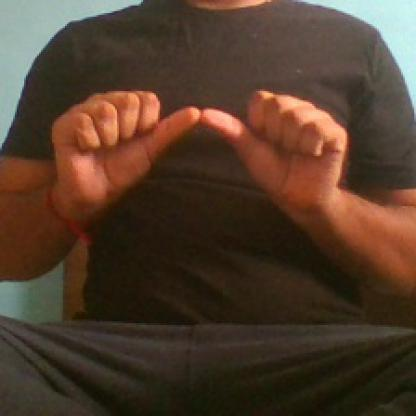A: (43, 80, 350, 216)
